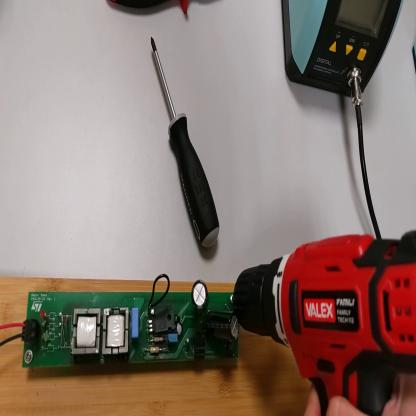electric screwdriver: (233, 230, 416, 416)
hand: (300, 371, 416, 414)
high voltage board: (1, 274, 241, 371)
screwdriver-: (151, 34, 221, 253)
welder station: (281, 1, 403, 103)
working area: (1, 277, 313, 416)
